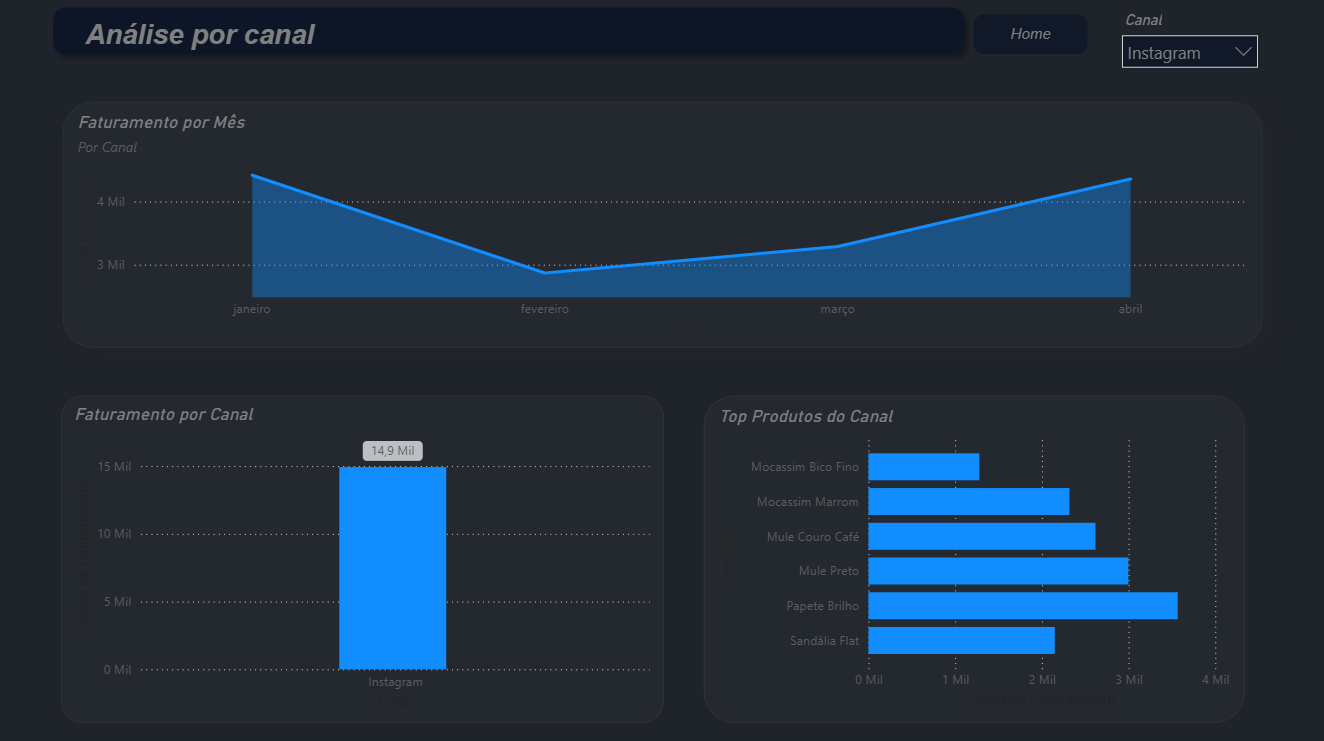

The page's visual inventory and layout, read from the dashboard file:
{"tool":"powerbi","page":{"name":"Página 2","canvas":[1280,720],"ordinal":1},"visuals":[{"type":"shape","box":[42.5,0,897.5,63.8],"z":0},{"type":"textbox","box":[77.5,16.2,600,47.5],"z":1000},{"type":"slicer","fields":{"Values":["Vendas.Canal"]},"box":[1072.5,7.5,151.2,63.8],"z":2000},{"type":"shape","box":[940,16.2,110,38.8],"z":3000},{"type":"lineStackedColumnComboChart","title":"Faturamento por Canal","fields":{"Category":["Vendas.Canal"],"Y":["Sum(Vendas.Faturamento)"]},"box":[58.8,383.8,581.2,316.2],"z":4000},{"type":"clusteredBarChart","title":"Top Produtos do Canal","fields":{"Category":["Vendas.Produto"],"Y":["Sum(Vendas.Faturamento)"]},"box":[678.8,383.8,522.5,316.2],"z":4002},{"type":"areaChart","title":"Faturamento por Mês","fields":{"Category":["Vendas.Data.Variation.Hierarquia de datas.Mês"],"Y":["Sum(Vendas.Faturamento)"]},"box":[60,100,1158.8,237.5],"z":4003}]}

Visuals, with their boxes in screenshot pixels (x1, y1, x2, y2), scaled from the page's 1280x720 canvas onto the 1324x741 screenshot:
shape: [44, 0, 972, 66]
textbox: [80, 17, 701, 66]
slicer - Vendas.Canal: [1109, 8, 1266, 73]
shape: [972, 17, 1086, 57]
"Faturamento por Canal" lineStackedColumnComboChart: [61, 395, 662, 720]
"Top Produtos do Canal" clusteredBarChart: [702, 395, 1243, 720]
"Faturamento por Mês" areaChart: [62, 103, 1261, 347]
